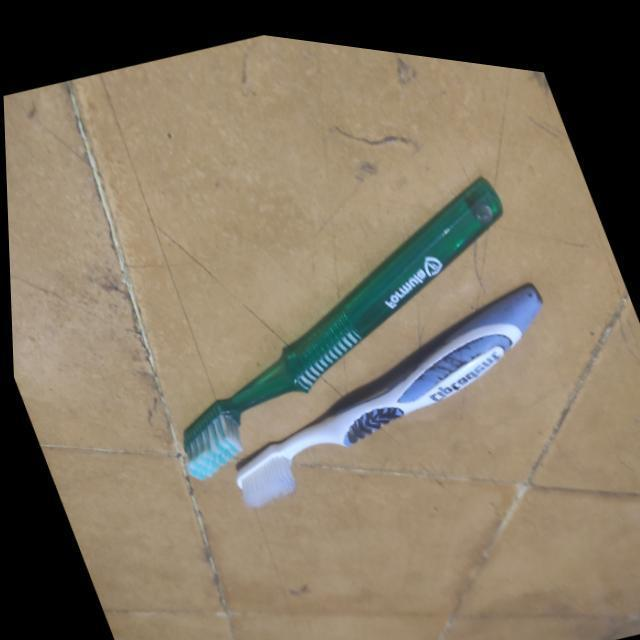toothbrush: (72, 88, 604, 550), (166, 186, 640, 578)
